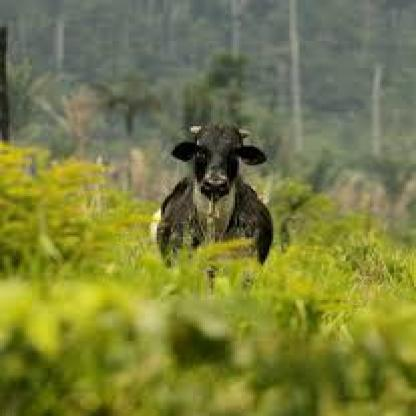cow: (156, 124, 272, 266)
